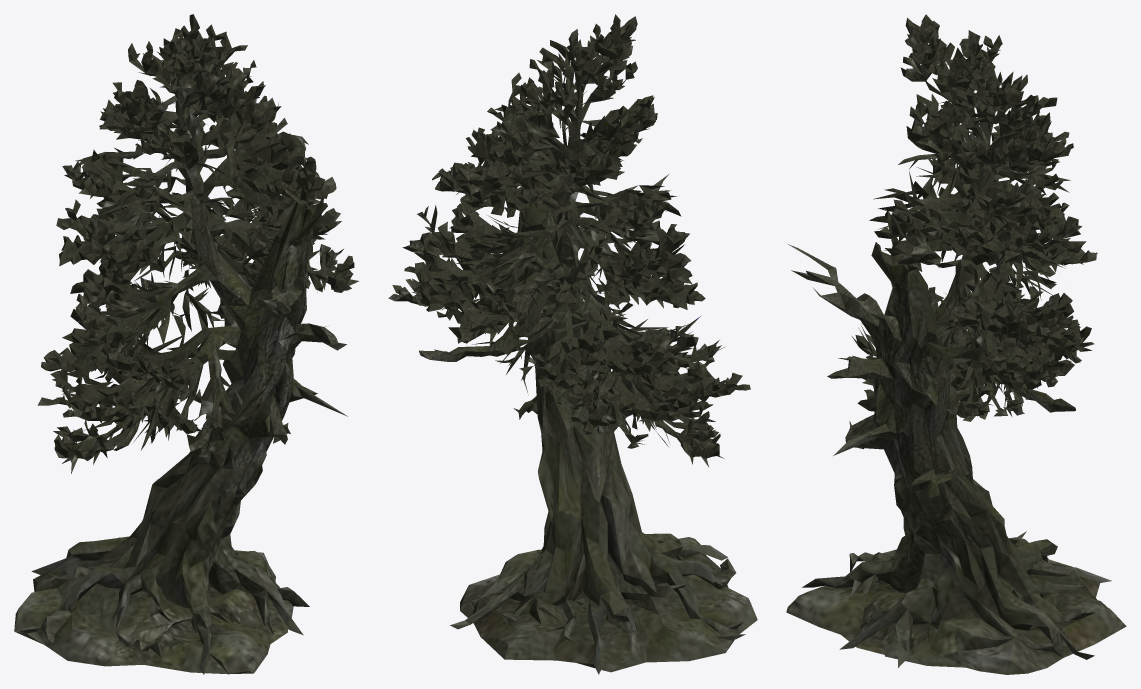
The model's file is pine_old.glb.
3 renders of one model, left to right at view 1: azimuth 30°, elevation 25°; view 2: azimuth 150°, elevation 25°; view 3: azimuth 270°, elevation 25°, orthographic. The views are drawn at different scales.
Visible parts, largest first — view 1: Mesh_0; view 2: Mesh_0; view 3: Mesh_0.
Boxes of the visible parts, left/top/right/bottom form: Mesh_0: left=14, top=14, right=359, bottom=674; Mesh_0: left=388, top=14, right=757, bottom=674; Mesh_0: left=786, top=14, right=1126, bottom=674.
Bounding box in the file's own units: 5.49 × 9 × 4.62.
Materials: 1 (1 with a texture image).
